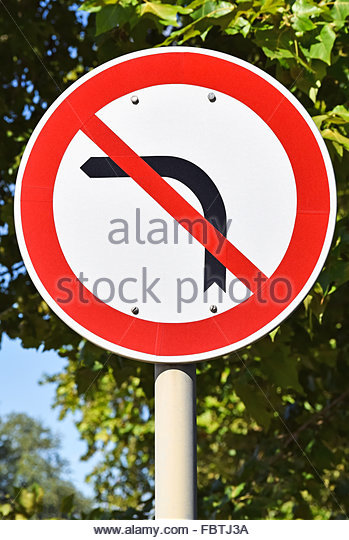No_left_turn: (14, 48, 336, 365)
